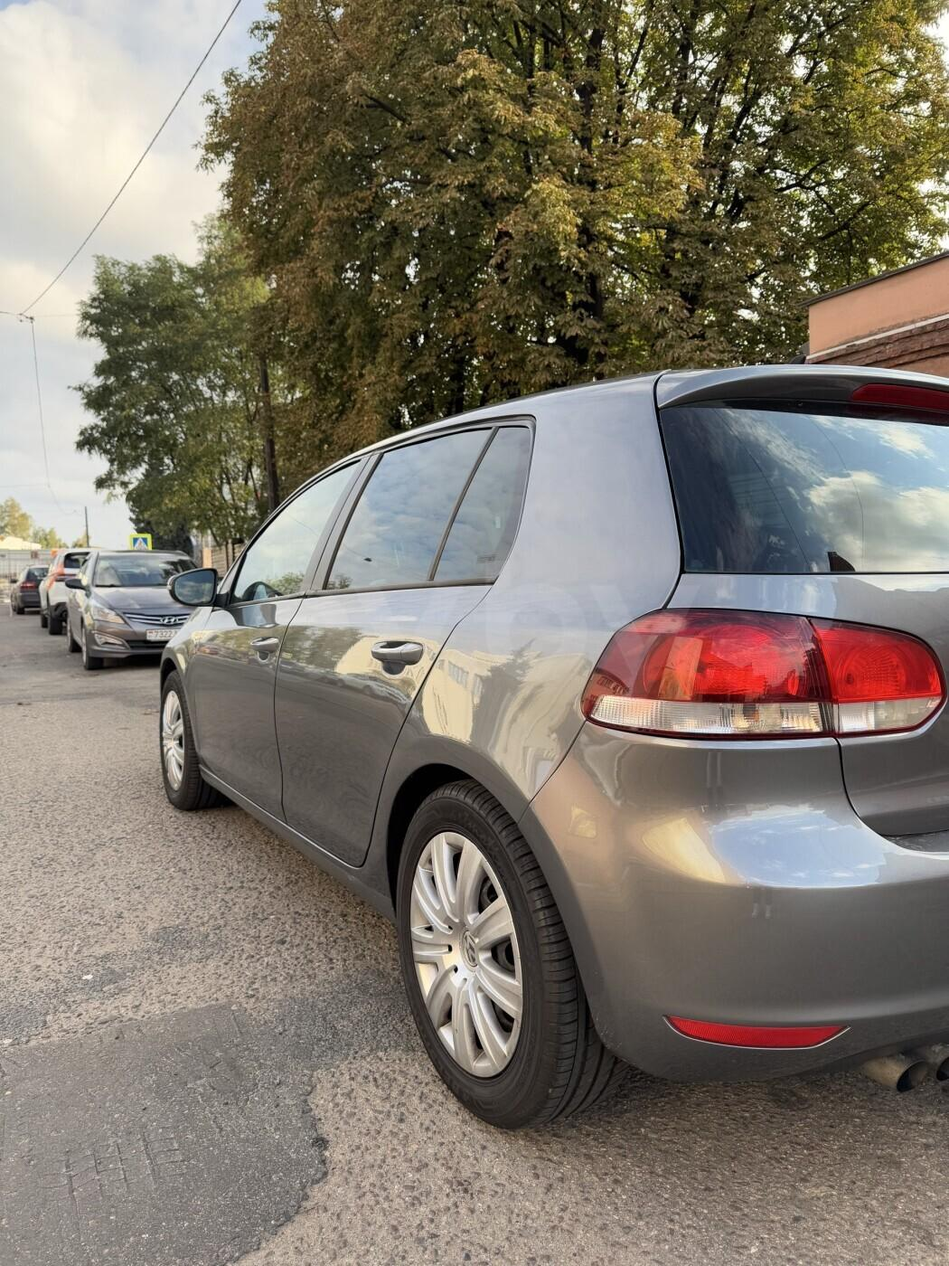Golf_2008-2013: (158, 360, 949, 1103)
